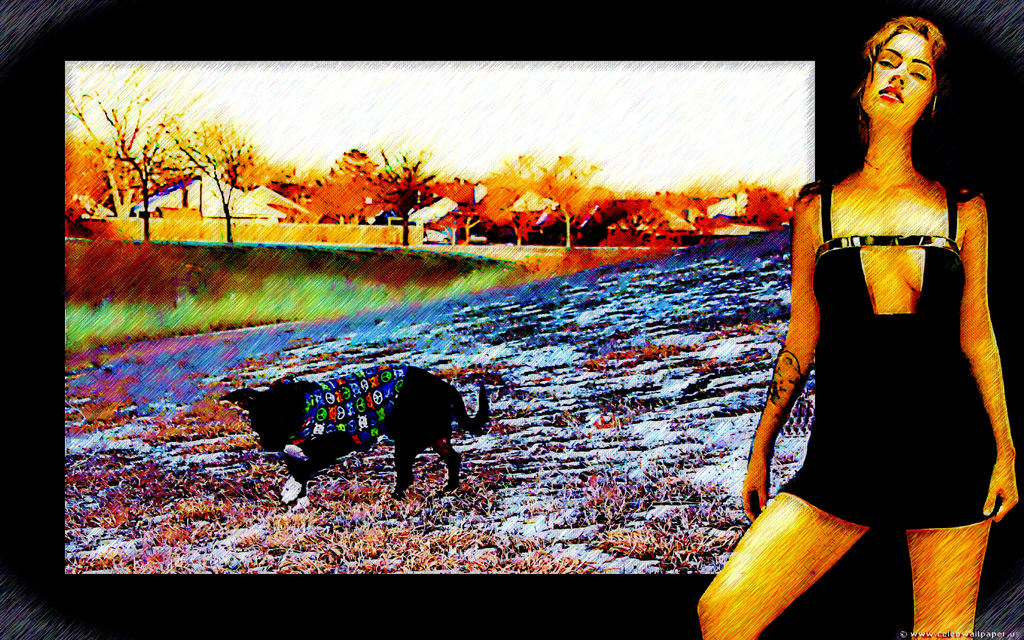Animal: (218, 361, 490, 502)
